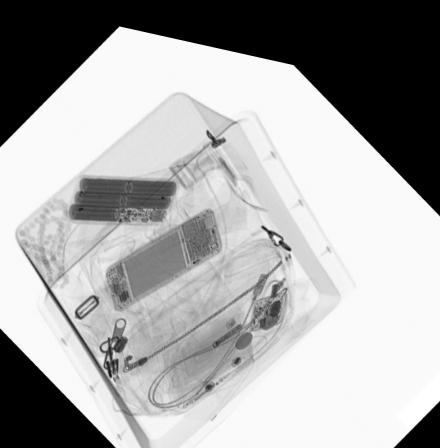Powerbank: (61, 168, 180, 221)
